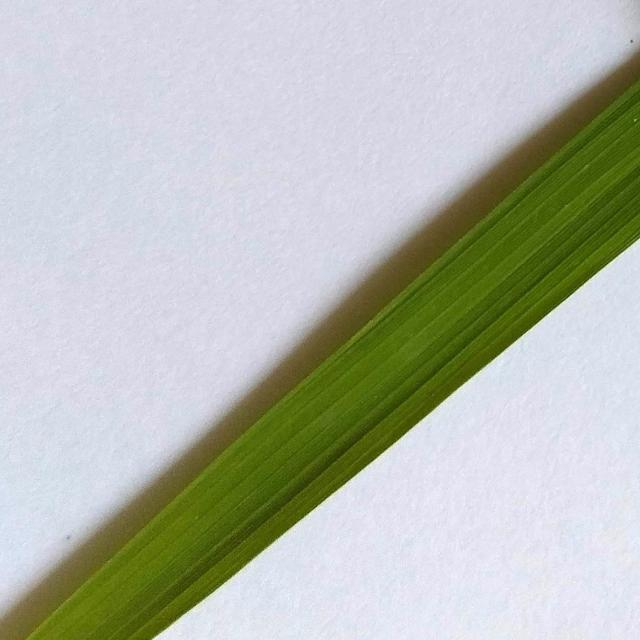healthy: (21, 57, 640, 640)
